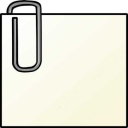Metal: (4, 4, 51, 72)
